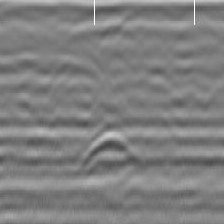Utility: (81, 130, 142, 170)
